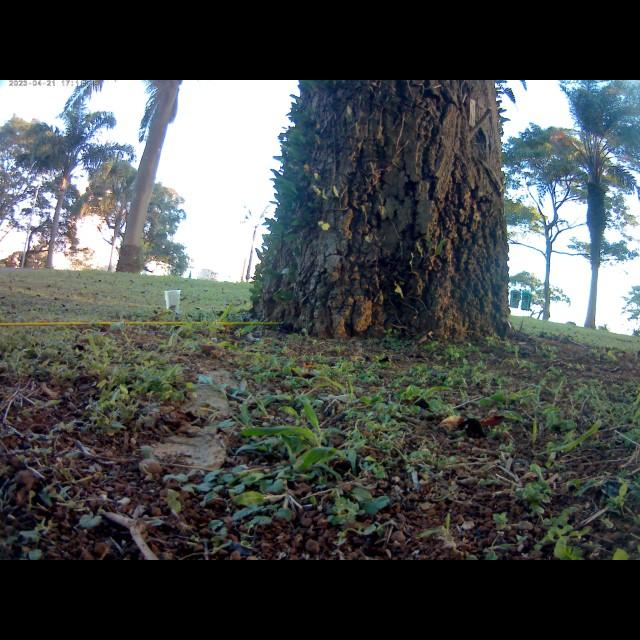arvore: (254, 82, 516, 346)
